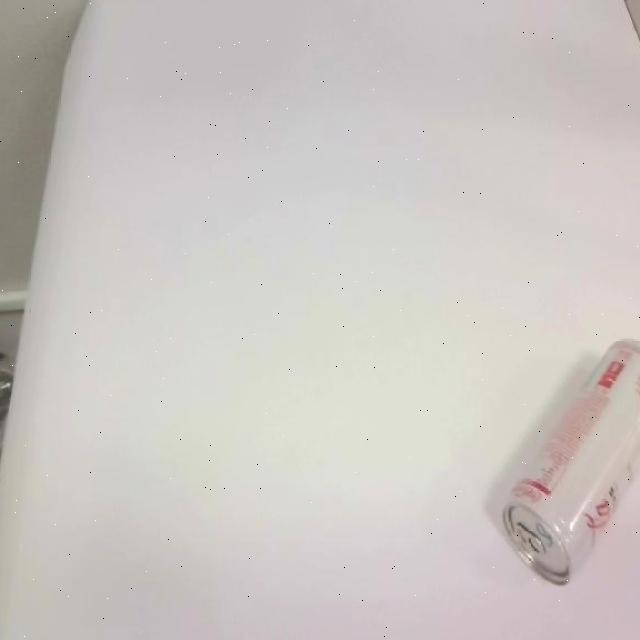debris: (500, 337, 640, 588)
